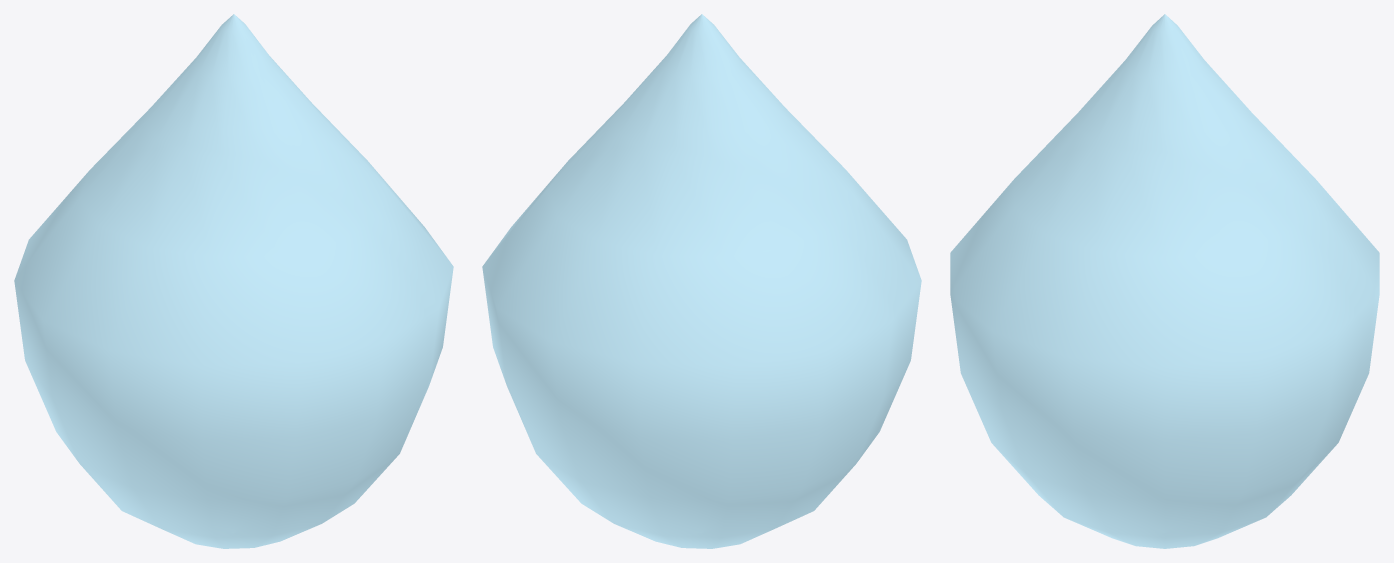
The model's file is drop_sweat.glb.
The picture shows the model from 3 angles, left to right: view 1: azimuth 30°, elevation 25°; view 2: azimuth 150°, elevation 25°; view 3: azimuth 270°, elevation 25°; orthographic projection.
Visible parts, largest first — view 1: drop_sweat; view 2: drop_sweat; view 3: drop_sweat.
Part boxes in pixels (x1,y1,x2,y2): drop_sweat: [14, 14, 453, 548]; drop_sweat: [482, 14, 921, 548]; drop_sweat: [950, 14, 1379, 548].
Size of the model in its own units: 0.032 by 0.0416 by 0.0312.
